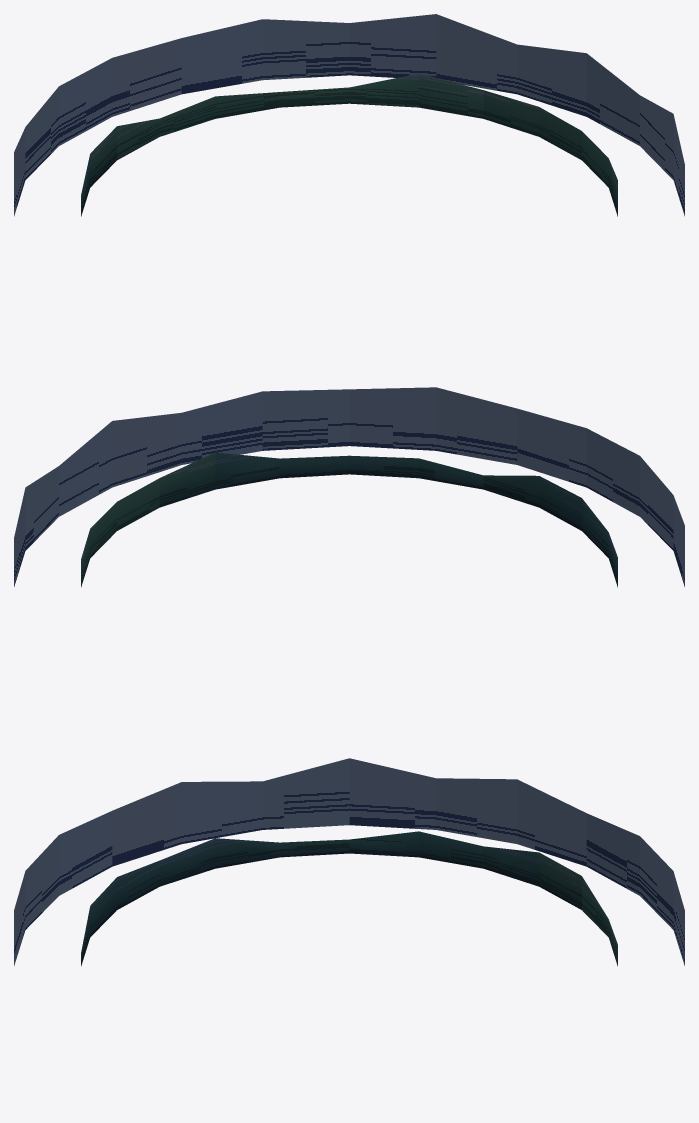
File: mter.backdrop__mountains.glb
The picture shows the model from 3 angles, top to bottom: view 1: azimuth 30°, elevation 25°; view 2: azimuth 150°, elevation 25°; view 3: azimuth 270°, elevation 25°; orthographic projection.
Parts seen in each view (by area): view 1: kit_shell_vista_far, kit_shell_vista; view 2: kit_shell_vista_far, kit_shell_vista; view 3: kit_shell_vista_far, kit_shell_vista.
Part boxes in pixels (bbox=[...]): kit_shell_vista_far: bbox=[14, 14, 684, 216]; kit_shell_vista: bbox=[81, 73, 617, 216]; kit_shell_vista_far: bbox=[14, 387, 684, 586]; kit_shell_vista: bbox=[81, 452, 617, 587]; kit_shell_vista_far: bbox=[14, 758, 684, 965]; kit_shell_vista: bbox=[81, 831, 617, 966].
Bounding box in the file's own units: 650 × 71.56 × 650.
2 materials, 2 textured.
